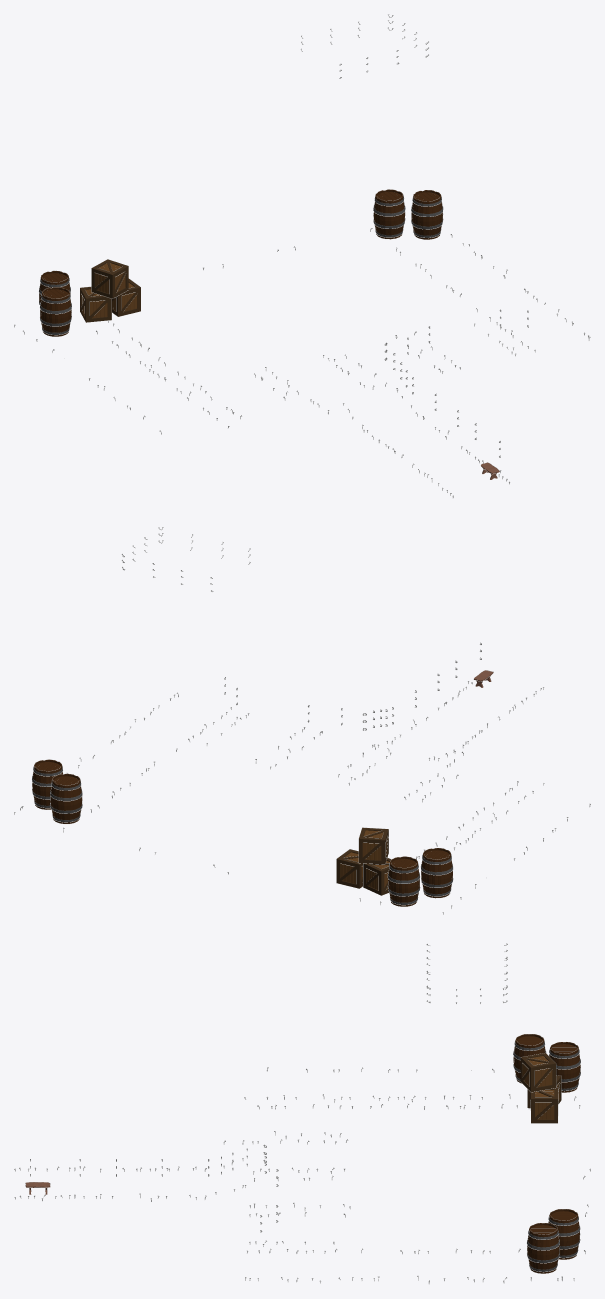
The model's file is hause-boxes.glb.
3 views of the same model, one above another, from view 1: azimuth 30°, elevation 25°; view 2: azimuth 150°, elevation 25°; view 3: azimuth 270°, elevation 25° (orthographic). The views are drawn at different scales.
Visible parts, largest first — view 1: Cube.012; view 2: Cube.012; view 3: Cube.012.
Part boxes in pixels (box(x1,y1,x2,y2)): Cube.012: box(14, 14, 590, 498); Cube.012: box(14, 527, 590, 914); Cube.012: box(14, 943, 590, 1284).
Bounding box in the file's own units: 18.74 × 11.15 × 21.38.
